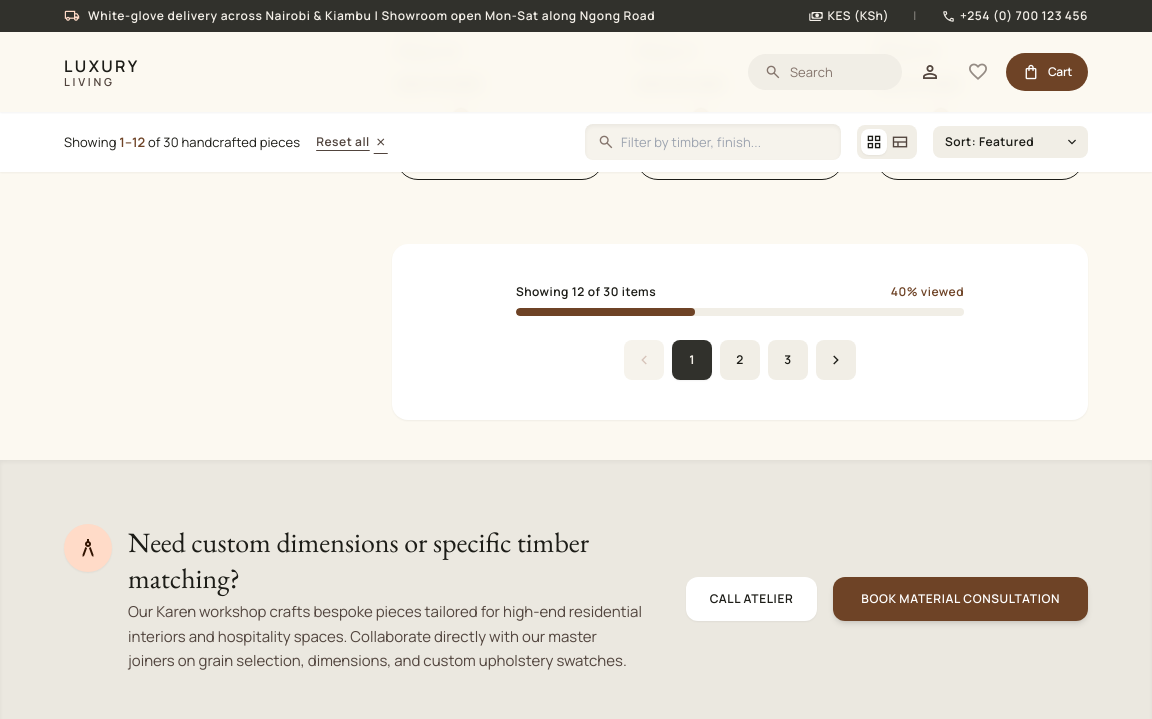
Scenario: paging › walks through the pages with the right ranges
(page scrolled)
Expected: the text "Showing 1–12 of 30 handcrafted pieces" is shown, [64,132,300,152]
Expected: the button named "Previous page" is disabled, [624,340,664,380]
Click the button named "Page 2".
click(740, 360)  # box [720,340,760,380]
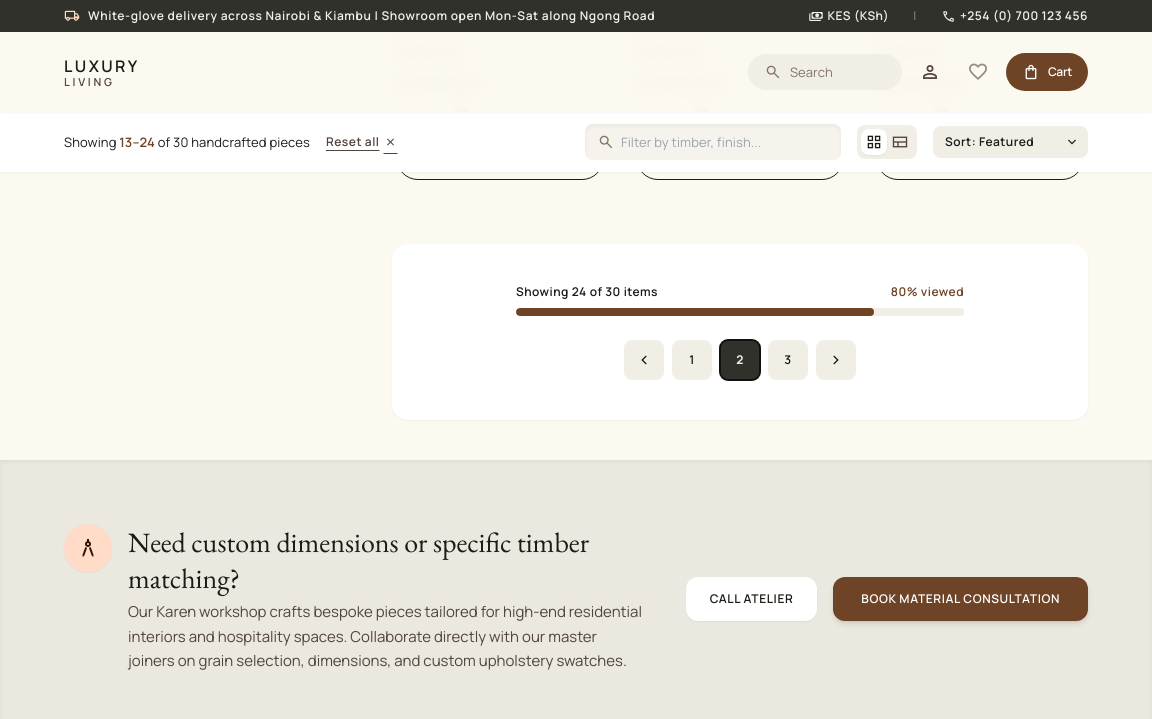
Expected: the text "Showing 13–24 of 30 handcrafted pieces" is shown, [64,132,310,152]
Click the button named "Next page".
click(836, 360)  # box [816,340,856,380]
(page scrolled)
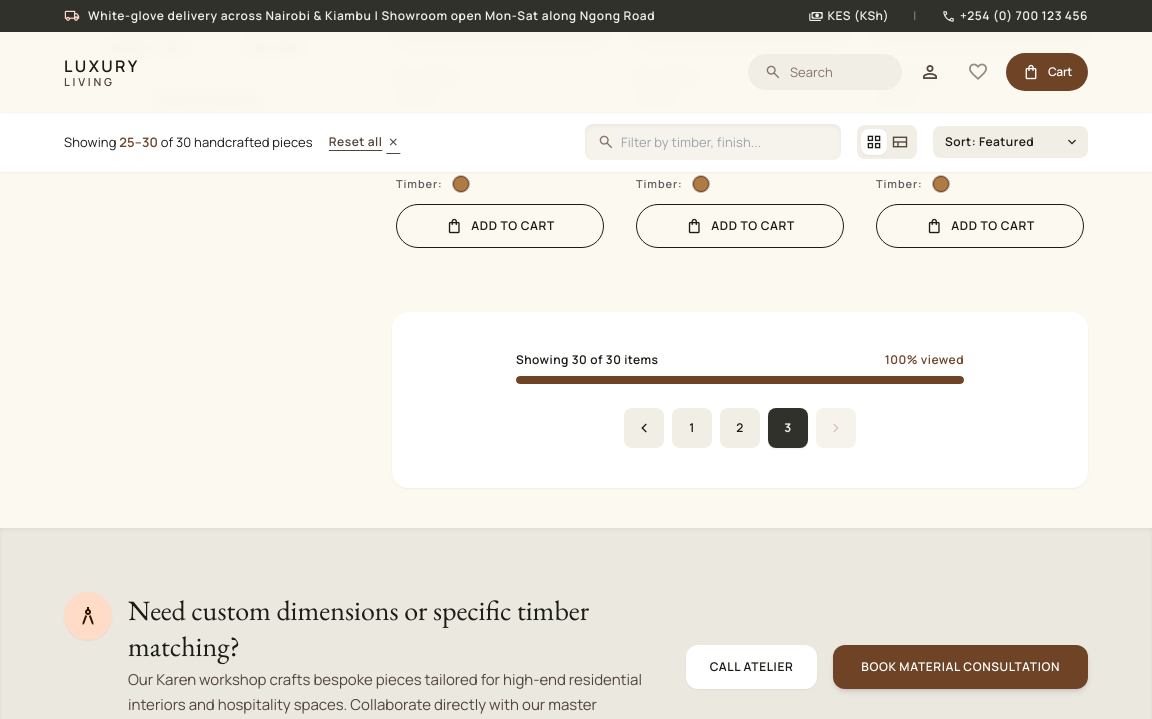
Expected: the button named "Next page" is disabled, [816,408,856,448]
Expected: the text "Showing 25–30 of 30 handcrafted pieces" is shown, [64,132,313,152]
Expected: the text "100% viewed" is shown, [885,352,964,368]
